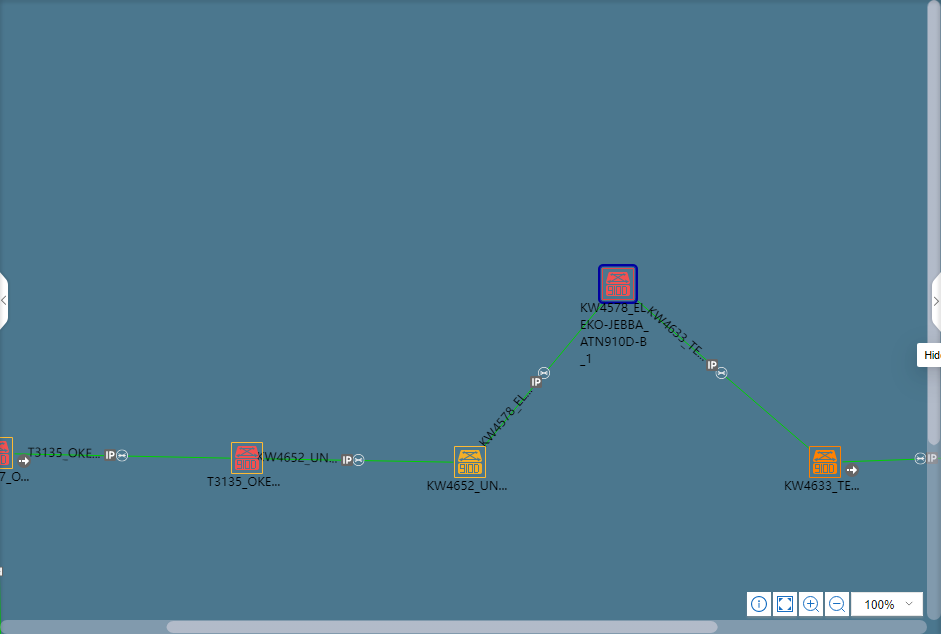ATN_Orange: (810, 447, 840, 478)
ATN_Red: (231, 444, 261, 474), (604, 270, 632, 300)
ATN_Yellow: (456, 450, 483, 477)
Link_Green: (639, 298, 808, 449), (483, 304, 605, 447), (14, 452, 230, 460), (264, 458, 453, 464), (842, 458, 915, 463)
